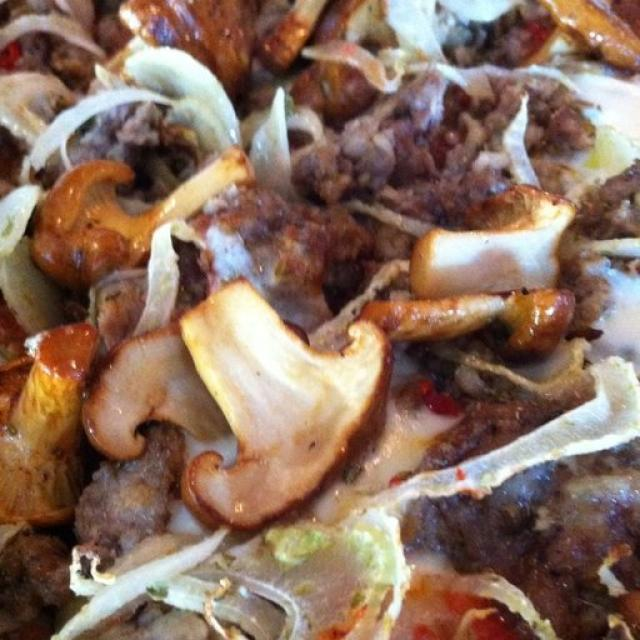Beef: (507, 499, 640, 634), (257, 209, 364, 268), (0, 535, 67, 614), (86, 470, 168, 528), (413, 144, 472, 182), (536, 86, 576, 140), (316, 157, 355, 201)
Mushrooms: (184, 273, 383, 526), (387, 185, 567, 345), (49, 154, 250, 274), (90, 336, 230, 455), (2, 331, 80, 524), (553, 3, 640, 70), (262, 0, 316, 65)
Onions: (75, 539, 401, 640), (417, 378, 640, 481), (132, 49, 242, 146), (304, 36, 405, 88), (585, 76, 640, 154), (252, 92, 293, 186), (387, 0, 448, 62)
Pizza: (0, 0, 640, 640)
